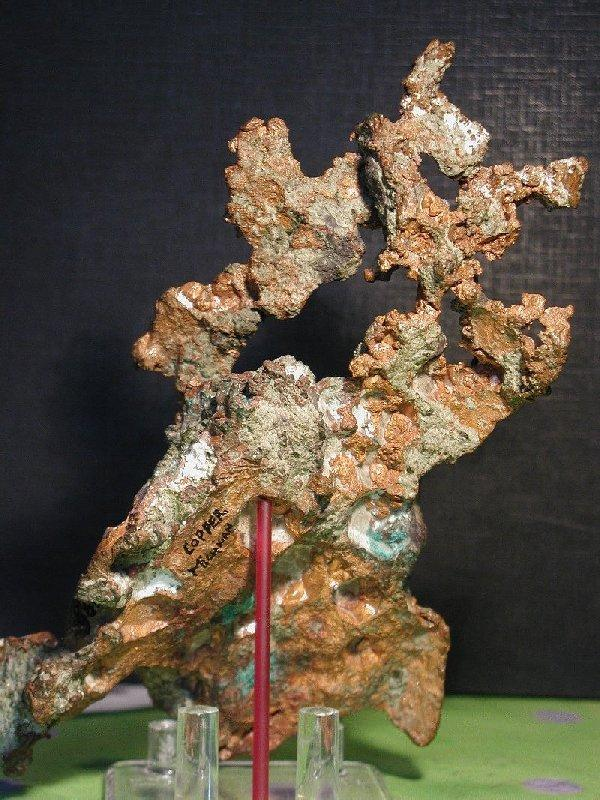copper: (3, 119, 571, 770), (24, 414, 449, 758), (357, 41, 589, 410)
